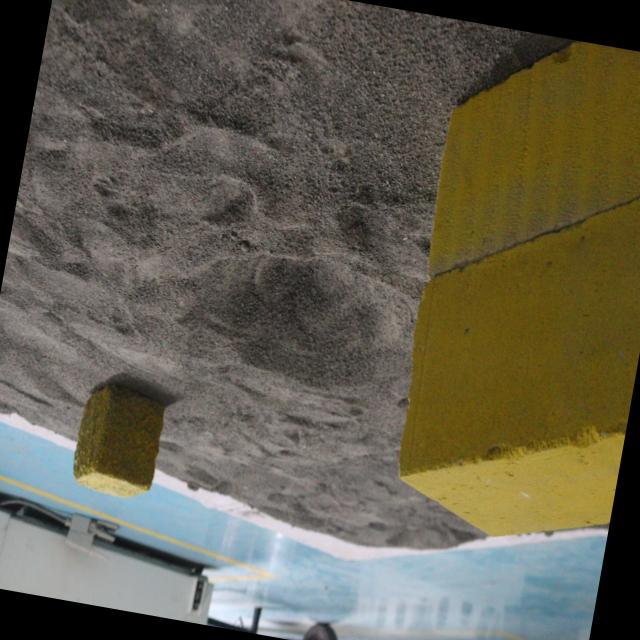box: (378, 21, 640, 563), (66, 373, 176, 512)
crater: (154, 217, 440, 416)
